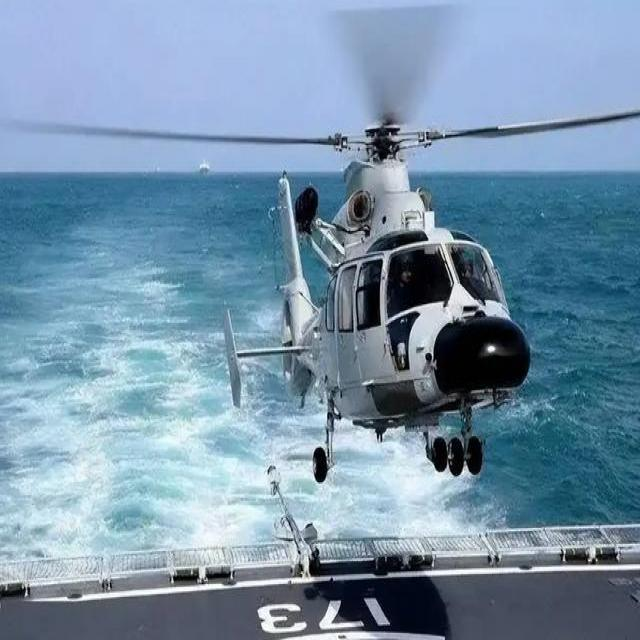MIL_HELO: (27, 28, 637, 515)
